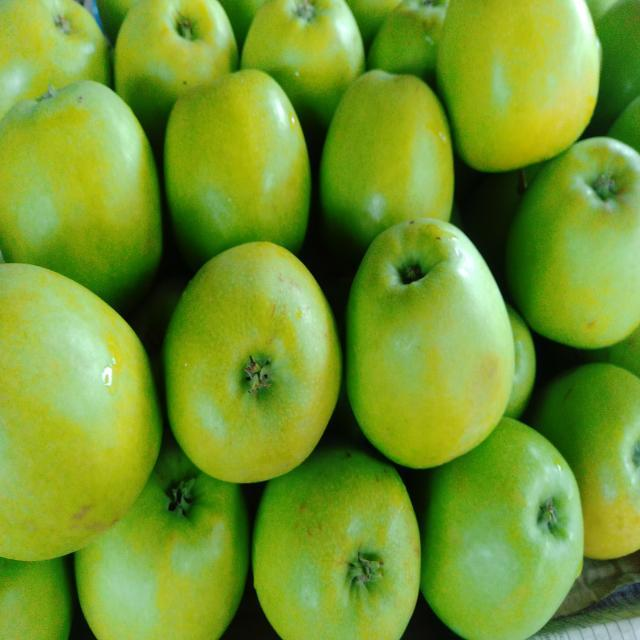Fresh Apple: (5, 262, 162, 560), (337, 218, 513, 465), (160, 237, 340, 473), (420, 416, 591, 640), (53, 451, 249, 640), (3, 77, 162, 298), (252, 450, 430, 640), (162, 65, 312, 247), (515, 140, 640, 347), (444, 2, 604, 162), (318, 65, 457, 232), (548, 360, 640, 558), (108, 0, 235, 95)
